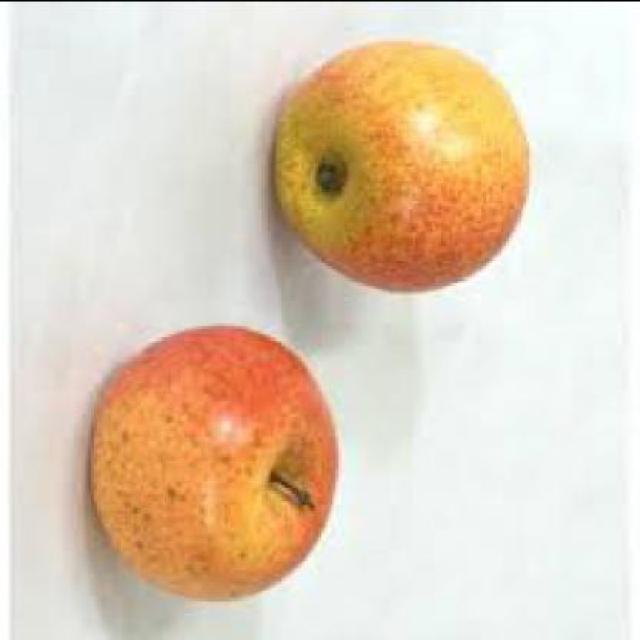BIODEGRADABLE: (91, 326, 338, 597), (275, 42, 529, 289)
